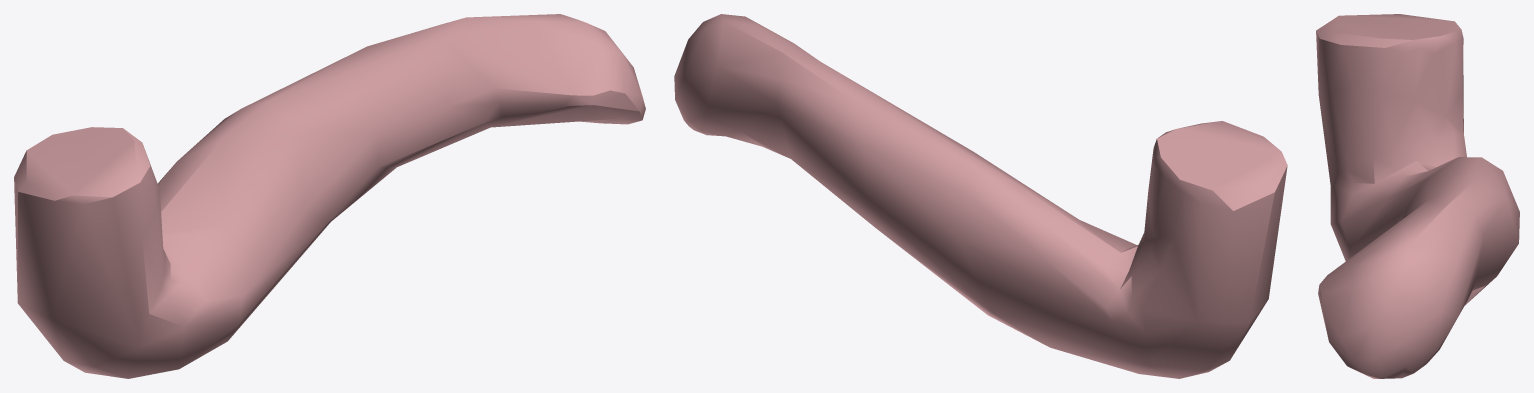
The model's file is fma16981_fj2606.glb.
3 views of the same model, side by side, from view 1: azimuth 30°, elevation 25°; view 2: azimuth 150°, elevation 25°; view 3: azimuth 270°, elevation 25° (orthographic).
Parts seen in each view (by area): view 1: FMA16981_FJ2606; view 2: FMA16981_FJ2606; view 3: FMA16981_FJ2606.
Boxes of the visible parts, x1,y1,x2,y2 form: FMA16981_FJ2606: (14,14,645,378); FMA16981_FJ2606: (674,14,1287,378); FMA16981_FJ2606: (1316,14,1519,378).
Size of the model in its own units: 0.0778 by 0.0308 by 0.0225.
